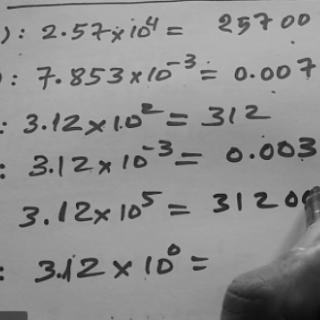.: (58, 26, 67, 38)
0: (232, 64, 248, 83)
1: (234, 191, 244, 212), (51, 111, 60, 133), (228, 102, 236, 126)
2: (251, 189, 280, 211), (244, 99, 271, 122), (215, 10, 234, 34), (61, 113, 83, 133), (41, 20, 59, 42)
3: (199, 104, 226, 130), (210, 191, 231, 215), (182, 50, 199, 71)
5: (236, 13, 251, 37), (71, 21, 87, 41)
7: (252, 10, 275, 32), (88, 20, 109, 41)
